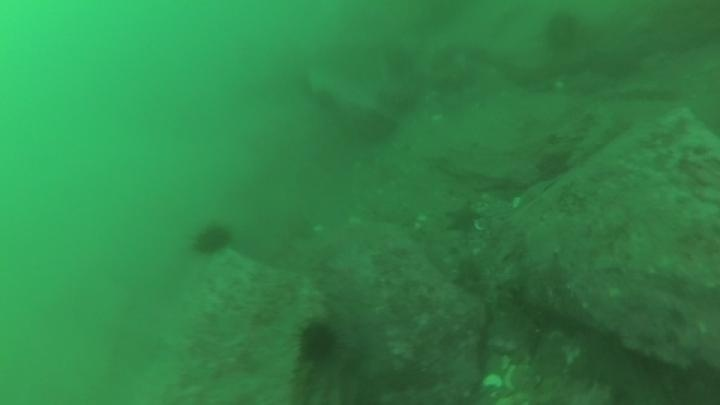echinus: (295, 319, 341, 366), (541, 10, 584, 55), (352, 108, 400, 148), (189, 220, 235, 259), (533, 149, 573, 183)
starfish: (442, 200, 484, 236)
